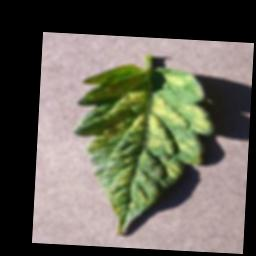Leaf_Mold: (68, 61, 218, 240)
